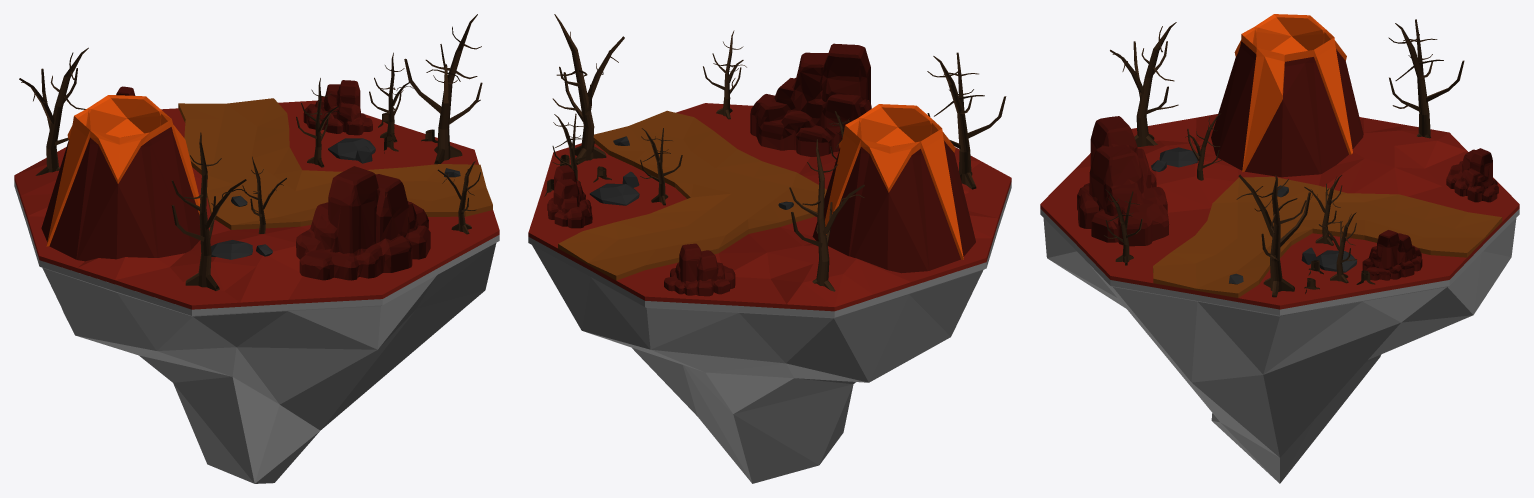
File: Mars_planet_base_002.FBX
The picture shows the model from 3 angles, left to right: view 1: azimuth 30°, elevation 25°; view 2: azimuth 150°, elevation 25°; view 3: azimuth 270°, elevation 25°; orthographic projection. The views are drawn at different scales.
Visible parts, largest first — view 1: 002_MARS PLANET_BASE; view 2: 002_MARS PLANET_BASE; view 3: 002_MARS PLANET_BASE.
Part boxes in pixels (x1,y1,x2,y2): 002_MARS PLANET_BASE: (14, 14, 499, 483); 002_MARS PLANET_BASE: (528, 14, 1011, 483); 002_MARS PLANET_BASE: (1040, 14, 1519, 483).
Bounding box in the file's own units: 16.35 × 15.01 × 16.22.
